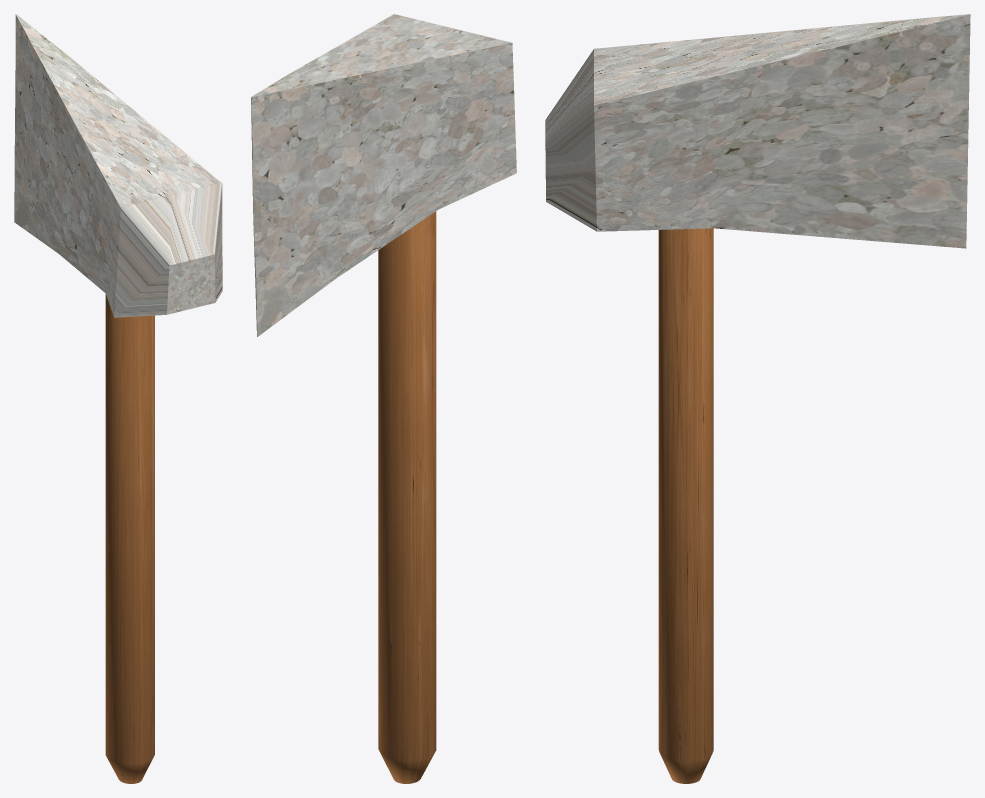
Rendered from axe.glb.
The picture shows the model from 3 angles, left to right: view 1: azimuth 30°, elevation 25°; view 2: azimuth 150°, elevation 25°; view 3: azimuth 270°, elevation 25°; orthographic projection. The views are drawn at different scales.
Visible parts, largest first — view 1: Cube; view 2: Cube; view 3: Cube.
Boxes of the visible parts, x1=… form: Cube: x1=14, y1=14, x2=222, y2=783; Cube: x1=251, y1=14, x2=516, y2=783; Cube: x1=545, y1=14, x2=970, y2=783.
Bounding box in the file's own units: 0.1385 × 0.8207 × 0.4108.
2 materials, 2 textured.
